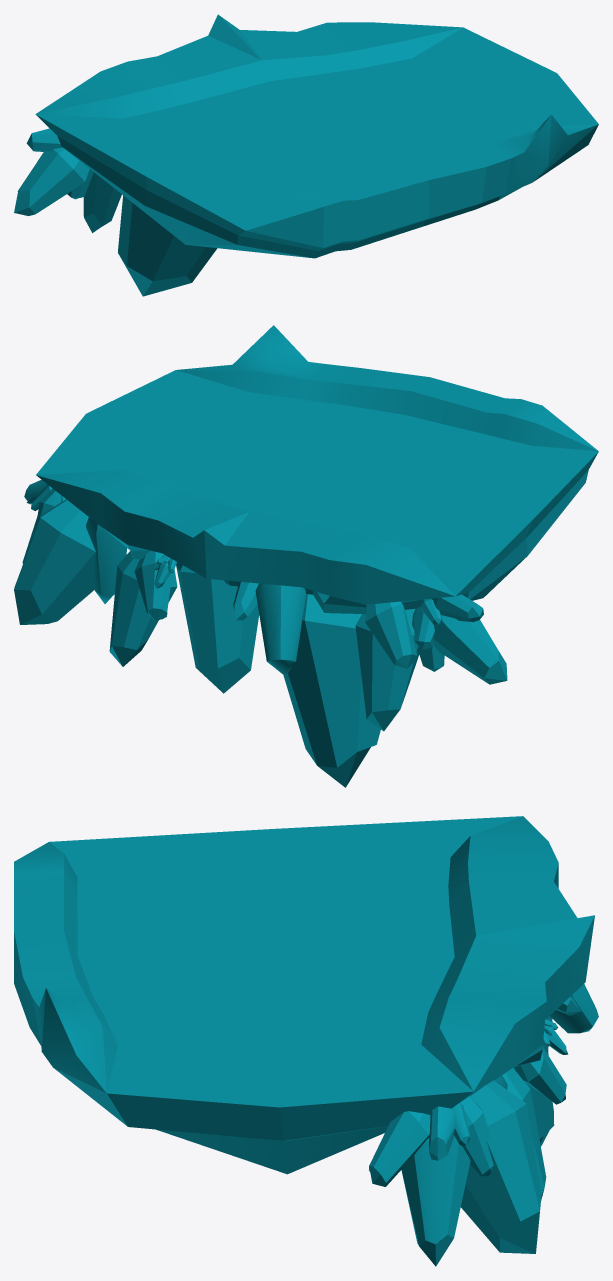
Rendered from Floating_Platfrom_Sml_2.fbx.
3 views of the same model, one above another, from view 1: azimuth 30°, elevation 25°; view 2: azimuth 150°, elevation 25°; view 3: azimuth 270°, elevation 25° (orthographic). The views are drawn at different scales.
Parts seen in each view (by area): view 1: Floating_sml_2; view 2: Floating_sml_2; view 3: Floating_sml_2.
Boxes of the visible parts, left/top/right/bottom form: Floating_sml_2: left=14, top=14, right=598, bottom=296; Floating_sml_2: left=14, top=325, right=598, bottom=787; Floating_sml_2: left=14, top=816, right=598, bottom=1266.
Size of the model in its own units: 1.76 by 0.8901 by 1.38.
